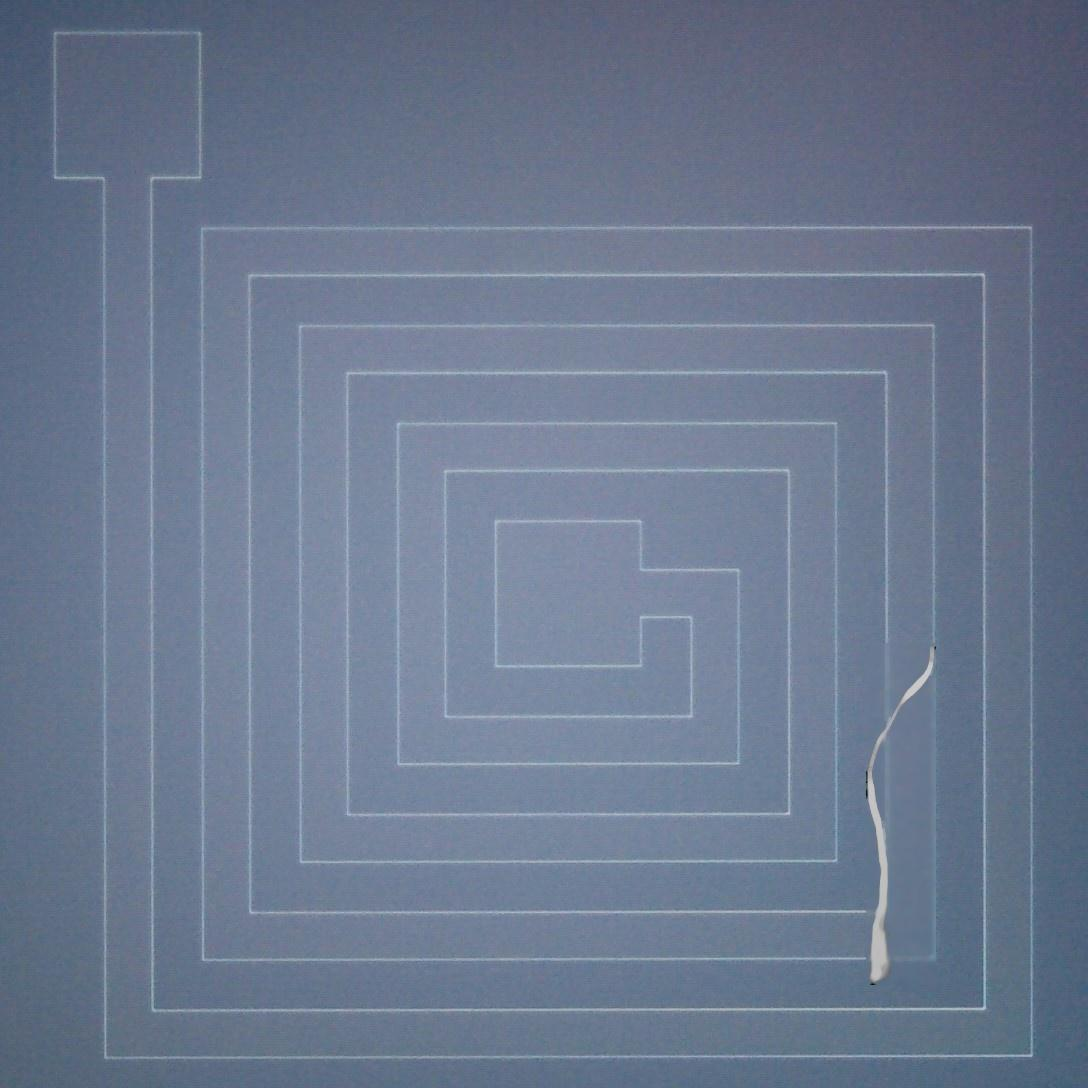foreign: (863, 642, 938, 987)
